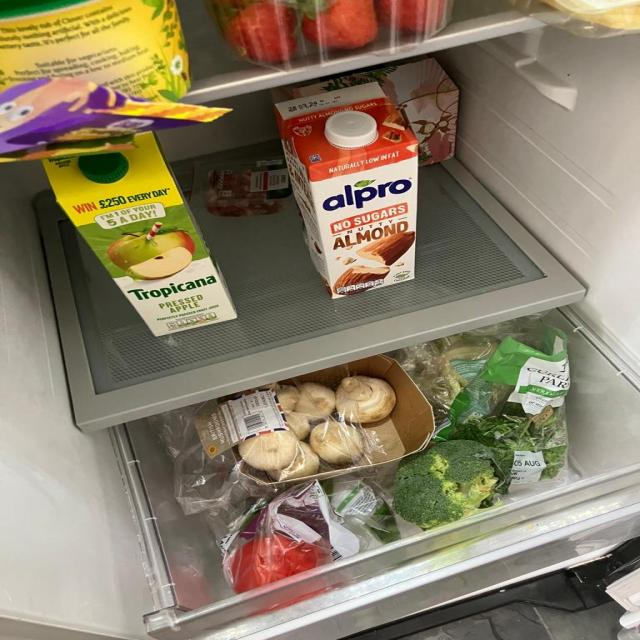Brocoli: (382, 432, 492, 549)
Carne cerdo: (201, 162, 286, 216)
Champiñones: (219, 362, 404, 491)
Mantequilla: (0, 0, 200, 102)
